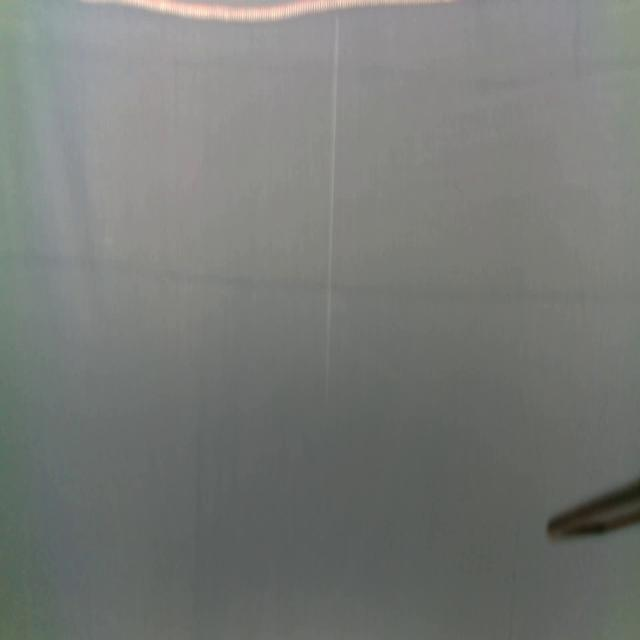color bleeding: (0, 24, 640, 100), (0, 243, 640, 312)
crease: (325, 14, 340, 397)
